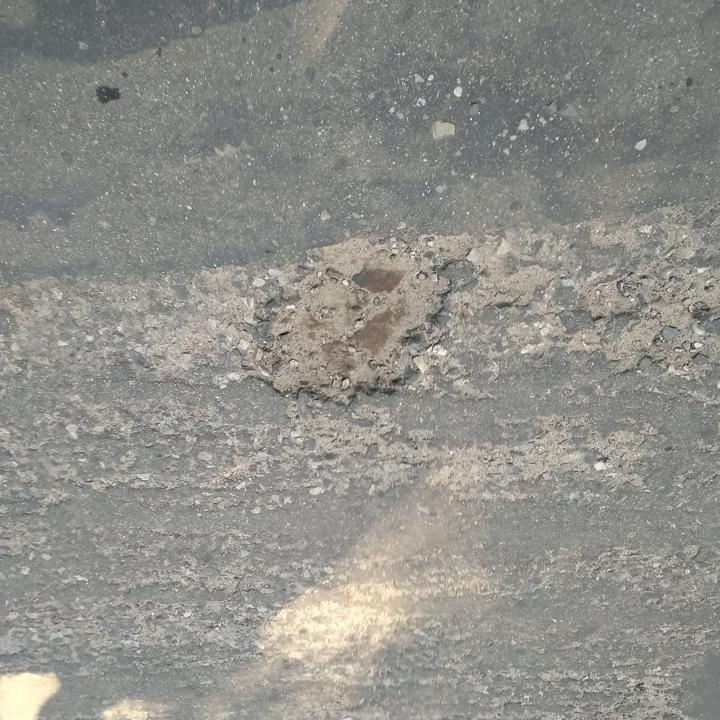pothole: (239, 228, 465, 413), (576, 265, 719, 379)
